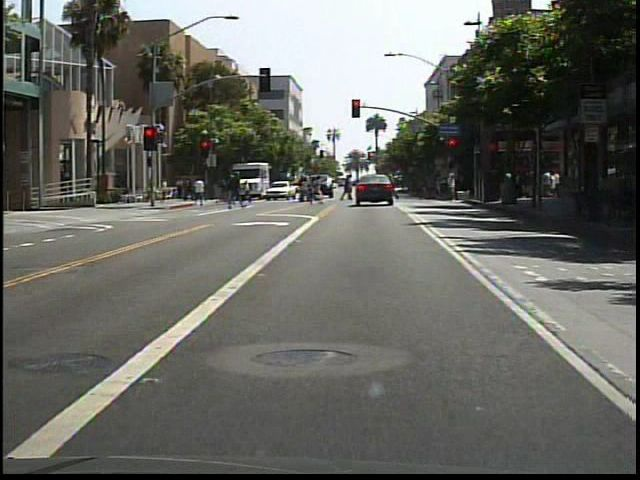person: (352, 166, 372, 209), (227, 171, 247, 213), (192, 177, 209, 208), (311, 174, 327, 206)
